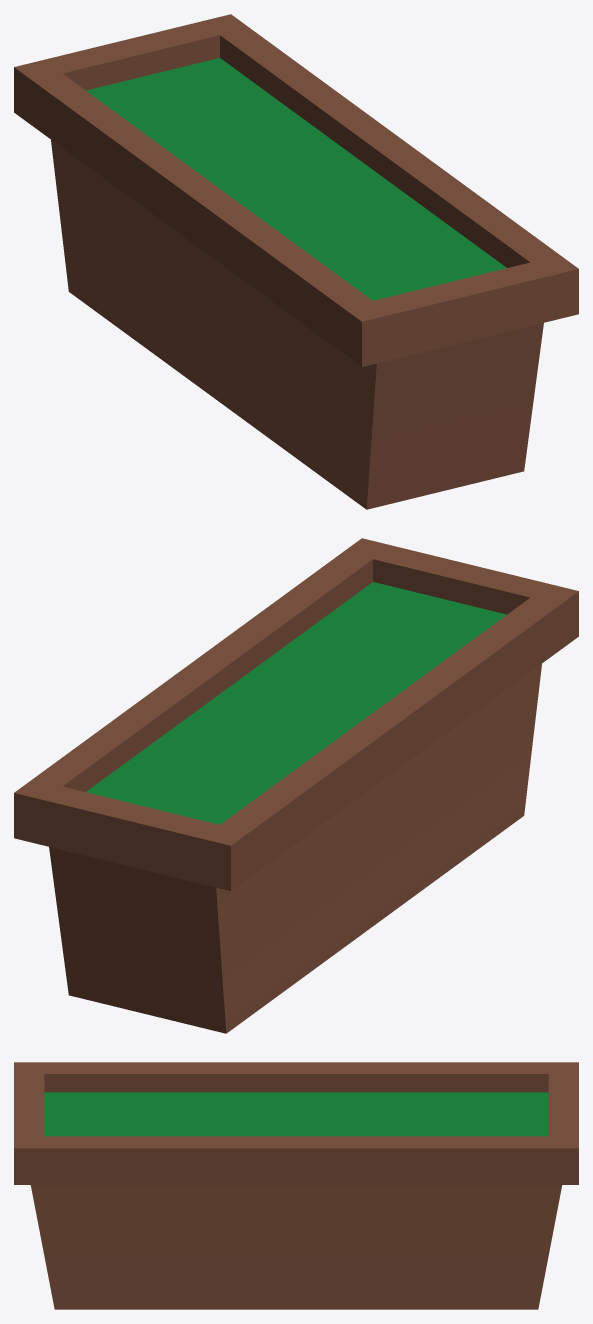
File: FlowerPot_5_2_G.fbx
3 renders of one model, top to bottom at view 1: azimuth 30°, elevation 25°; view 2: azimuth 150°, elevation 25°; view 3: azimuth 270°, elevation 25°, orthographic. The views are drawn at different scales.
Parts seen in each view (by area): view 1: FlowerPot_5_2_G; view 2: FlowerPot_5_2_G; view 3: FlowerPot_5_2_G.
Part boxes in pixels (bbox=[...]): FlowerPot_5_2_G: bbox=[14, 14, 578, 509]; FlowerPot_5_2_G: bbox=[14, 538, 578, 1033]; FlowerPot_5_2_G: bbox=[14, 1062, 578, 1309].
Bounding box in the file's own units: 32.46 × 30.52 × 90.14.
